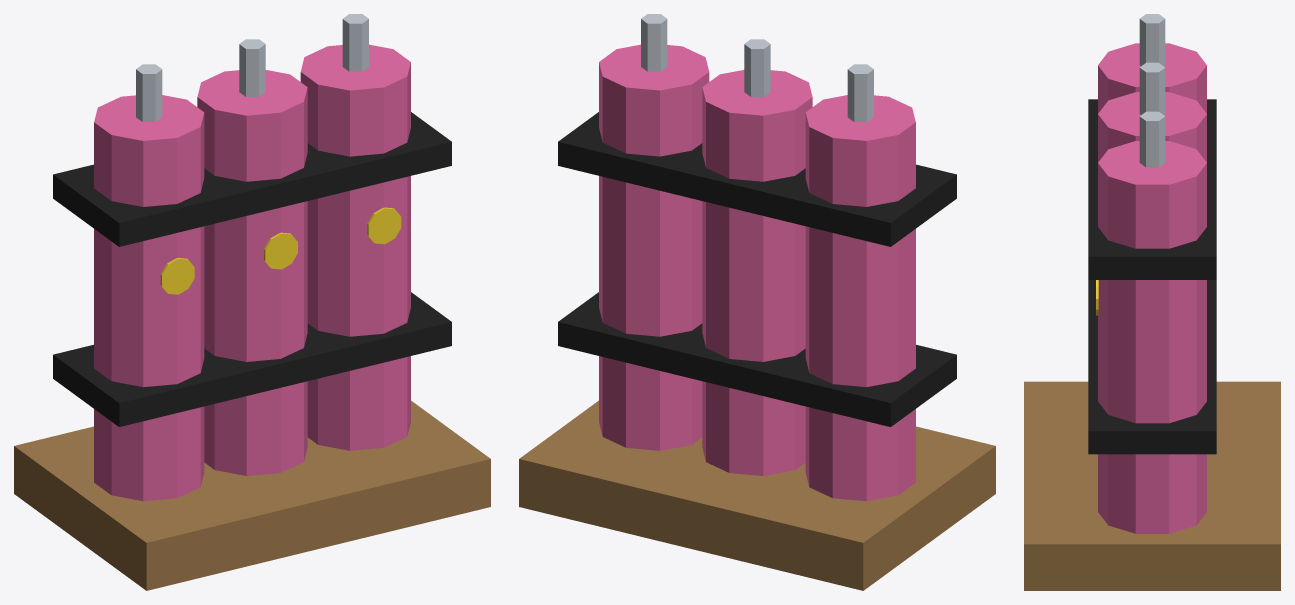
Rendered from gas_bundle.glb.
3 renders of one model, left to right at view 1: azimuth 30°, elevation 25°; view 2: azimuth 150°, elevation 25°; view 3: azimuth 270°, elevation 25°, orthographic. The views are drawn at different scales.
Visible parts, largest first — view 1: tanks_bundle_pink, pallet_pallet_wood, straps_strap_black (×2), tanks_dental_chrome, labels_smiley_yellow (×3); view 2: tanks_bundle_pink, pallet_pallet_wood, straps_strap_black (×2), tanks_dental_chrome; view 3: tanks_bundle_pink, pallet_pallet_wood, straps_strap_black (×2), tanks_dental_chrome.
Part boxes in pixels (bbox=[...]): tanks_bundle_pink: bbox=[94, 44, 410, 501]; pallet_pallet_wood: bbox=[14, 400, 490, 590]; straps_strap_black (×2): bbox=[53, 112, 451, 426]; tanks_dental_chrome: bbox=[136, 14, 368, 121]; labels_smiley_yellow (×3): bbox=[160, 207, 401, 294]; tanks_bundle_pink: bbox=[599, 44, 915, 501]; pallet_pallet_wood: bbox=[519, 400, 995, 590]; straps_strap_black (×2): bbox=[558, 112, 956, 426]; tanks_dental_chrome: bbox=[641, 14, 873, 121]; tanks_bundle_pink: bbox=[1098, 43, 1206, 533]; pallet_pallet_wood: bbox=[1024, 381, 1280, 590]; straps_strap_black (×2): bbox=[1088, 99, 1216, 454]; tanks_dental_chrome: bbox=[1139, 14, 1165, 167].
Bounding box in the file's own units: 0.6 × 0.76 × 0.4.
